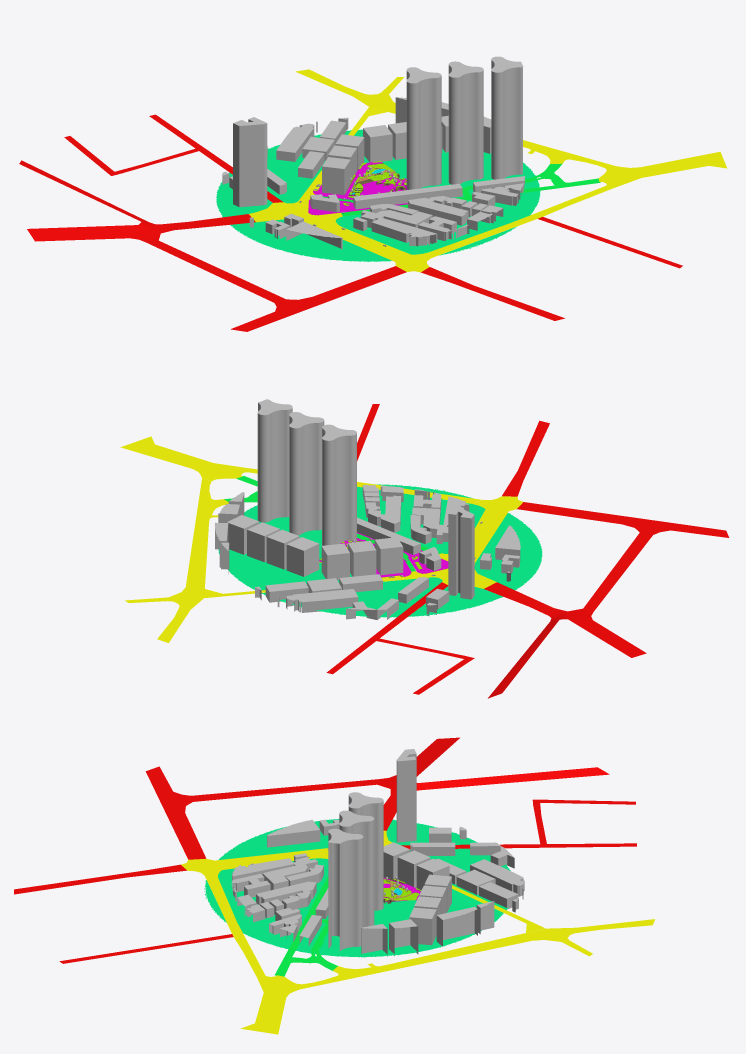
The model's file is Enviroment_3.fbx.
3 views of the same model, one above another, from view 1: azimuth 30°, elevation 25°; view 2: azimuth 150°, elevation 25°; view 3: azimuth 270°, elevation 25° (orthographic).
Parts seen in each view (by area): view 1: City, Road_3, circle, Road_2, tower_02, tower_03, tower_01, tower_t, Enviroment, Road_1; view 2: City, circle, Road_3, Road_2, tower_03, tower_02, tower_01, tower_t, Enviroment; view 3: City, Road_3, circle, Road_2, tower_01, tower_t, tower_02, tower_03, Road_1, Enviroment.
Boxes of the visible parts, left/top/right/bottom form: City: left=221, top=97, right=524, bottom=249; Road_3: left=19, top=114, right=682, bottom=331; circle: left=216, top=129, right=540, bottom=261; Road_2: left=249, top=69, right=727, bottom=272; tower_02: left=448, top=61, right=483, bottom=184; tower_03: left=406, top=67, right=441, bottom=189; tower_01: left=491, top=56, right=523, bottom=179; tower_t: left=233, top=117, right=267, bottom=207; Enviroment: left=308, top=161, right=407, bottom=215; Road_1: left=323, top=163, right=600, bottom=216; City: left=214, top=484, right=520, bottom=620; circle: left=218, top=484, right=542, bottom=617; Road_3: left=326, top=404, right=729, bottom=698; Road_2: left=120, top=436, right=522, bottom=642; tower_03: left=322, top=424, right=356, bottom=545; tower_02: left=289, top=412, right=324, bottom=535; tower_01: left=257, top=399, right=292, bottom=522; tower_t: left=448, top=506, right=474, bottom=599; Enviroment: left=319, top=532, right=448, bottom=577; City: left=231, top=819, right=524, bottom=956; Road_3: left=14, top=737, right=636, bottom=963; circle: left=204, top=819, right=510, bottom=957; Road_2: left=181, top=830, right=654, bottom=1034; tower_01: left=328, top=828, right=363, bottom=950; tower_t: left=396, top=749, right=416, bottom=842; tower_02: left=339, top=810, right=374, bottom=927; tower_03: left=348, top=792, right=383, bottom=910; Road_1: left=275, top=876, right=337, bottom=976; Enviroment: left=383, top=876, right=421, bottom=903.
Size of the model in its own units: 96410 by 17892 by 96649.
